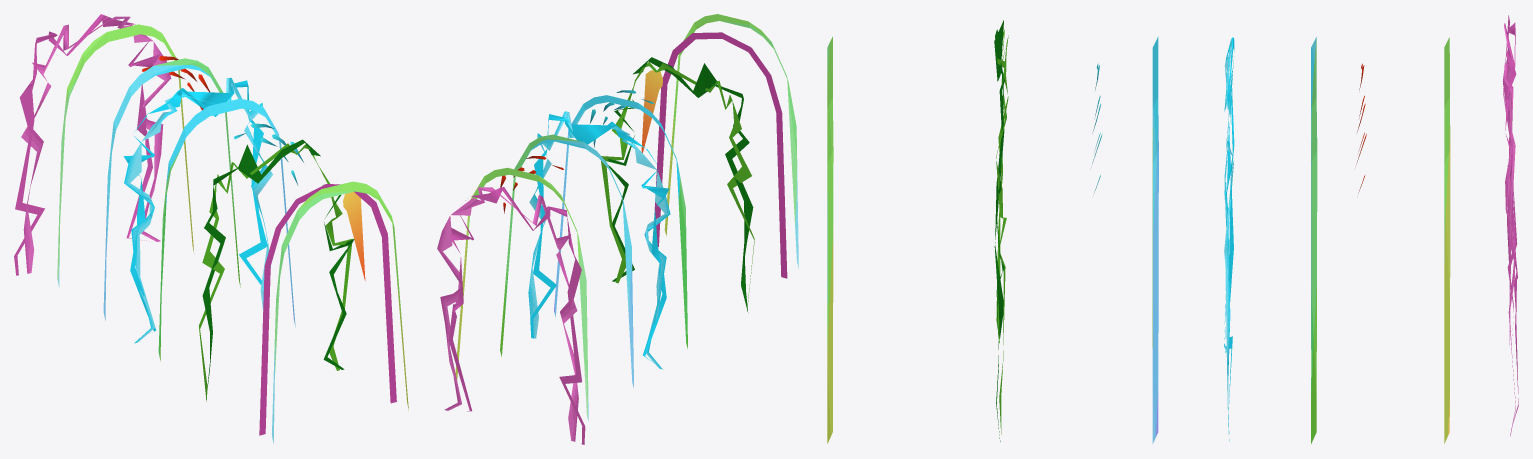
Rendered from tunel-003.gltf.
The picture shows the model from 3 angles, left to right: view 1: azimuth 30°, elevation 25°; view 2: azimuth 150°, elevation 25°; view 3: azimuth 270°, elevation 25°; orthographic projection. The views are drawn at different scales.
Visible parts, largest first — view 1: Tunel-Electrico-f.003; view 2: Tunel-Electrico-f.003; view 3: Tunel-Electrico-f.003.
Part boxes in pixels (x1,y1,x2,y2): Tunel-Electrico-f.003: (14, 14, 408, 443); Tunel-Electrico-f.003: (437, 14, 798, 444); Tunel-Electrico-f.003: (827, 15, 1518, 443).
Bounding box in the file's own units: 3.43 × 4.96 × 8.73.
Materials: 1 (1 with a texture image).
